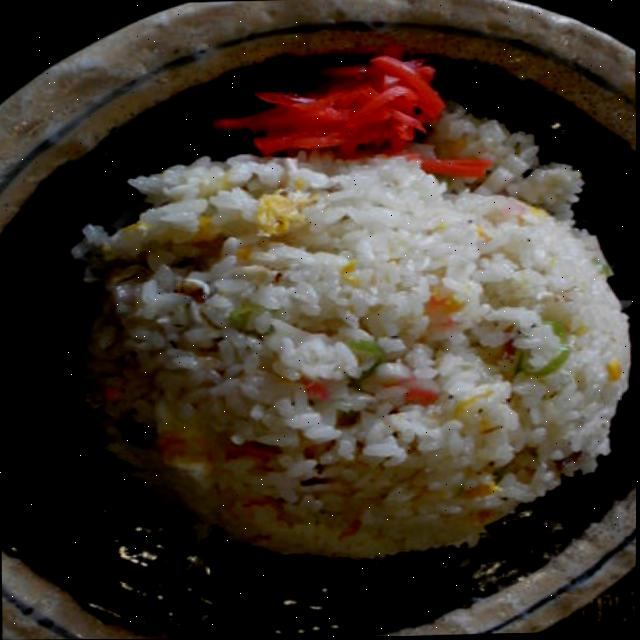米饭主食: (0, 0, 640, 493)
